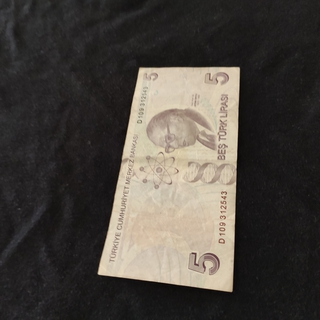5TLBack: (97, 66, 241, 293)
